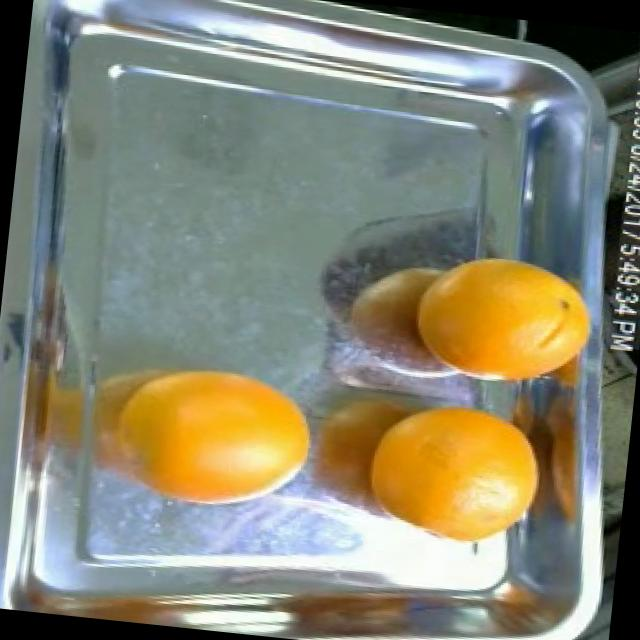Fruit: (130, 348, 334, 531), (384, 230, 604, 394)
